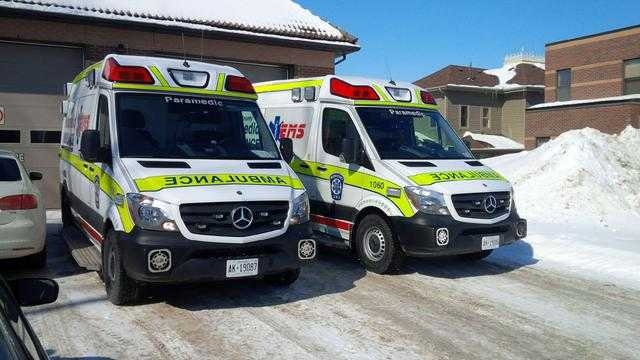Ambulance: (55, 45, 338, 320), (269, 60, 536, 264)
